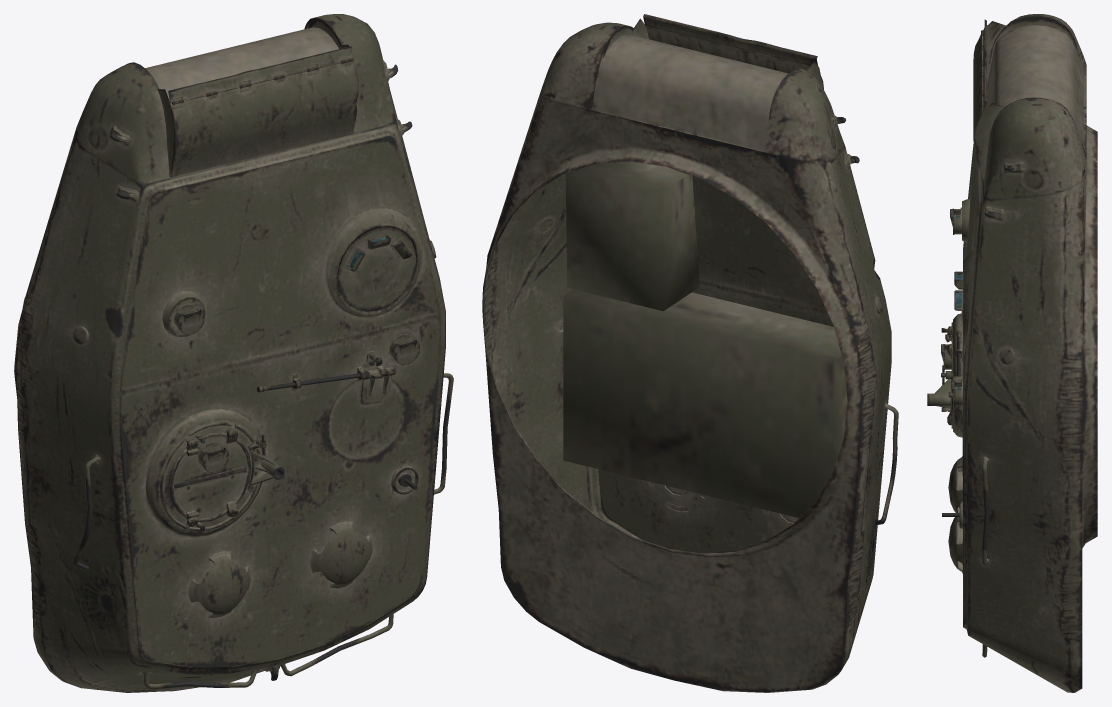
The model's file is Turret_01.glb.
The picture shows the model from 3 angles, left to right: view 1: azimuth 30°, elevation 25°; view 2: azimuth 150°, elevation 25°; view 3: azimuth 270°, elevation 25°; orthographic projection. The views are drawn at different scales.
Visible parts, largest first — view 1: set_0_group_0; view 2: set_0_group_0; view 3: set_0_group_0.
Boxes of the visible parts, x1=… form: set_0_group_0: x1=14, y1=14, x2=453, y2=692; set_0_group_0: x1=482, y1=14, x2=898, y2=692; set_0_group_0: x1=927, y1=14, x2=1097, y2=692.
Size of the model in its own units: 2.57 by 3.96 by 1.03.
1 material, 1 textured.
